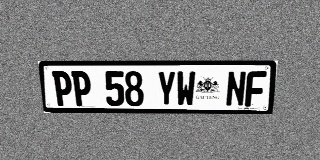5: (105, 71, 125, 106)
8: (124, 71, 144, 106)
F: (245, 71, 267, 107)
N: (225, 71, 247, 107)
P: (52, 71, 73, 106), (71, 71, 92, 106)
W: (176, 71, 196, 106)
Y: (157, 71, 176, 106)
